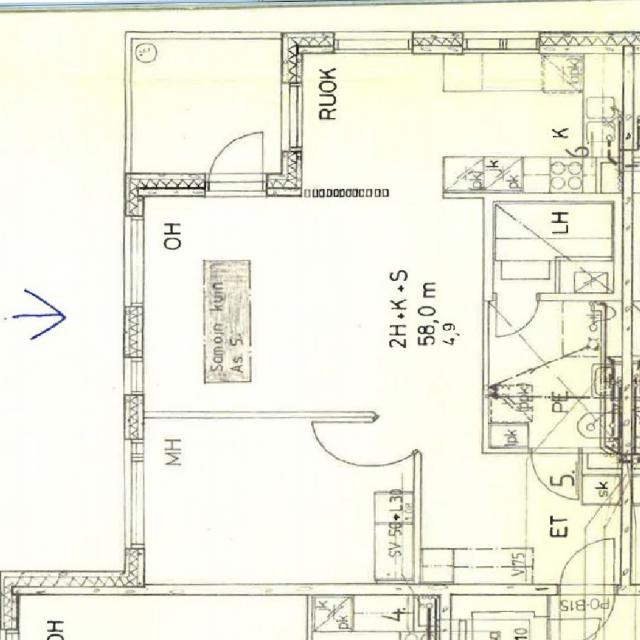door: (337, 416, 417, 488), (206, 124, 265, 195), (559, 534, 615, 595), (559, 584, 614, 640), (530, 448, 579, 497), (496, 290, 536, 336)
